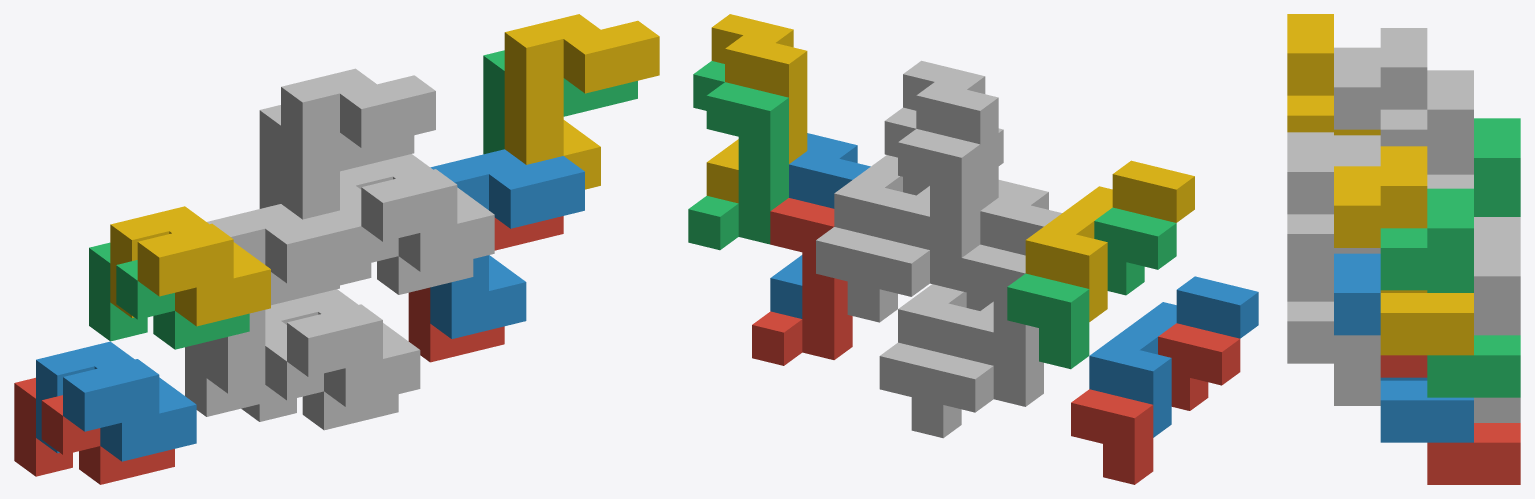
Rendered from tiling.obj.
3 renders of one model, left to right at view 1: azimuth 30°, elevation 25°; view 2: azimuth 150°, elevation 25°; view 3: azimuth 270°, elevation 25°, orthographic. The views are drawn at different scales.
Parts seen in each view (by area): view 1: copy_2_domain_8, copy_2_domain_4, copy_2_domain_6, copy_1_domain_4, copy_1_domain_2, copy_2_domain_2, copy_1_domain_8, copy_1_domain_6, copy_1_domain_3, copy_1_domain_1, copy_1_domain_5, copy_2_domain_5 (+4 smaller); view 2: copy_2_domain_3, copy_2_domain_7, copy_1_domain_3, copy_1_domain_1, copy_1_domain_4, copy_1_domain_2, copy_2_domain_1, copy_2_domain_5, copy_2_domain_8, copy_2_domain_4, copy_2_domain_6, copy_2_domain_2 (+4 smaller); view 3: copy_2_domain_8, copy_2_domain_7, copy_2_domain_6, copy_2_domain_4, copy_2_domain_3, copy_1_domain_8, copy_2_domain_5, copy_1_domain_4, copy_1_domain_6, copy_1_domain_7, copy_1_domain_3, copy_1_domain_5 (+1 smaller).
Boxes of the visible parts, bbox=[...] form: copy_2_domain_8: bbox=[504, 14, 659, 189]; copy_2_domain_4: bbox=[281, 68, 435, 219]; copy_2_domain_6: bbox=[430, 149, 584, 338]; copy_1_domain_4: bbox=[110, 206, 270, 326]; copy_1_domain_2: bbox=[36, 341, 196, 461]; copy_2_domain_2: bbox=[206, 204, 361, 393]; copy_1_domain_8: bbox=[340, 154, 494, 271]; copy_1_domain_6: bbox=[266, 289, 420, 406]; copy_1_domain_3: bbox=[89, 242, 249, 349]; copy_1_domain_1: bbox=[14, 377, 174, 484]; copy_1_domain_5: bbox=[241, 340, 398, 430]; copy_2_domain_5: bbox=[408, 216, 563, 362]; copy_2_domain_3: bbox=[879, 107, 980, 296]; copy_2_domain_7: bbox=[688, 61, 788, 250]; copy_1_domain_3: bbox=[1007, 207, 1176, 369]; copy_1_domain_1: bbox=[1071, 323, 1240, 484]; copy_1_domain_4: bbox=[1025, 160, 1194, 321]; copy_1_domain_2: bbox=[1089, 276, 1258, 437]; copy_2_domain_1: bbox=[943, 244, 1043, 412]; copy_2_domain_5: bbox=[752, 198, 852, 365]; copy_2_domain_8: bbox=[706, 14, 807, 203]; copy_2_domain_4: bbox=[898, 60, 998, 249]; copy_2_domain_6: bbox=[770, 133, 870, 318]; copy_2_domain_2: bbox=[961, 180, 1061, 365]; copy_2_domain_8: bbox=[1334, 146, 1473, 355]; copy_2_domain_7: bbox=[1380, 188, 1520, 397]; copy_2_domain_6: bbox=[1334, 253, 1473, 442]; copy_2_domain_4: bbox=[1334, 28, 1473, 188]; copy_2_domain_3: bbox=[1380, 70, 1520, 236]; copy_1_domain_8: bbox=[1287, 132, 1380, 276]; copy_2_domain_5: bbox=[1380, 355, 1520, 484]; copy_1_domain_4: bbox=[1287, 14, 1380, 135]; copy_1_domain_6: bbox=[1287, 276, 1380, 363]; copy_1_domain_7: bbox=[1474, 236, 1520, 335]; copy_1_domain_3: bbox=[1474, 118, 1520, 216]; copy_1_domain_5: bbox=[1334, 363, 1520, 422].
Size of the model in its own units: 16 by 9 by 5.
